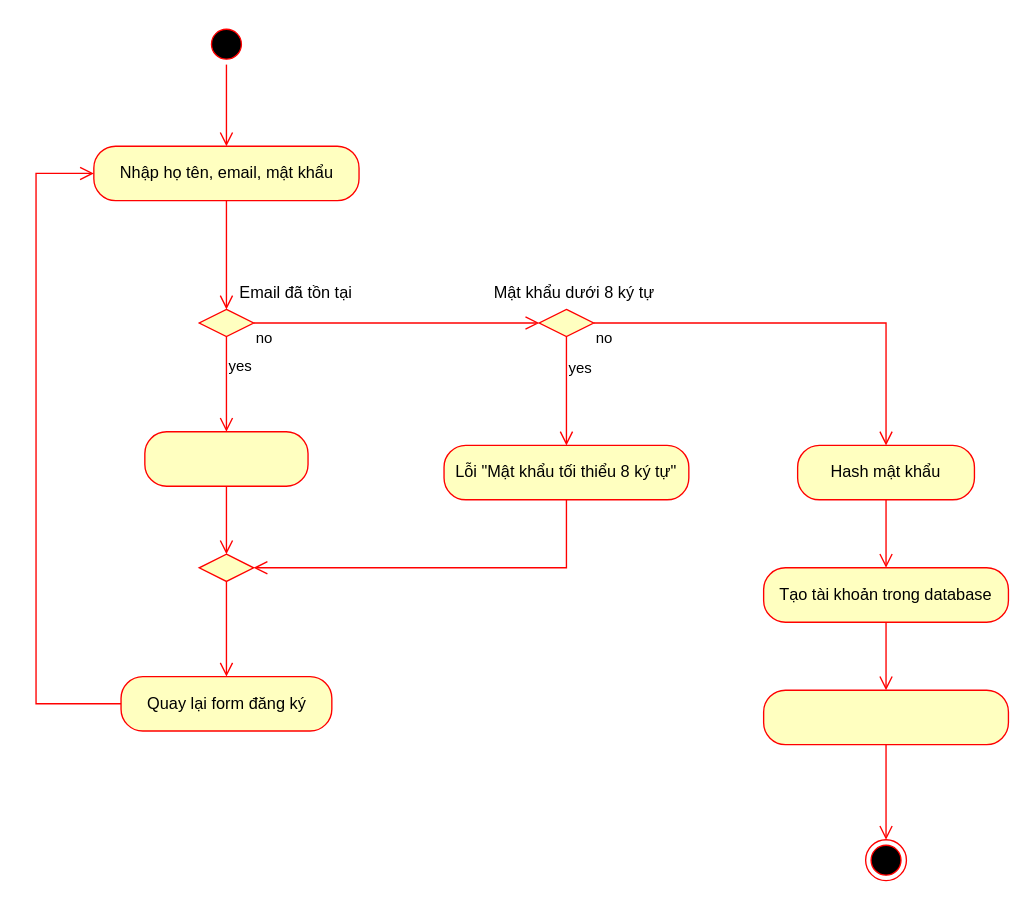
This 1032x904 diagram has some shape labels left out. The box of each missing label's shape, as (x1, y1, x2, y2) in pixels:
Chuyển sang trang đăng nhập: (762, 689, 1008, 745)
Lỗi "Email đã tồn tại": (143, 430, 308, 486)
